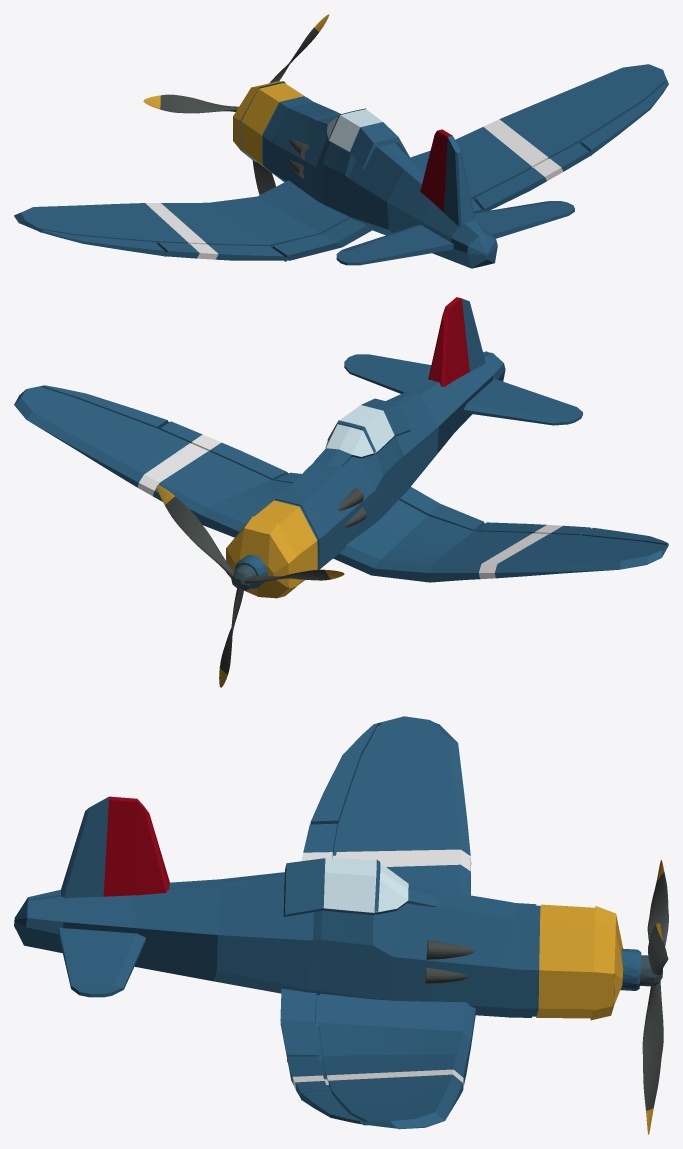
The picture shows the model from 3 angles, top to bottom: view 1: azimuth 30°, elevation 25°; view 2: azimuth 150°, elevation 25°; view 3: azimuth 270°, elevation 25°; orthographic projection. The views are drawn at different scales.
Visible parts, largest first — view 1: Cube.007_0, Cube.004_1; view 2: Cube.007_0, Cube.004_1; view 3: Cube.007_0, Cube.004_1.
Boxes of the visible parts, x1,y1,x2,y2 form: Cube.007_0: (14,64,668,268); Cube.004_1: (143,14,329,194); Cube.007_0: (14,297,668,598); Cube.004_1: (156,485,344,687); Cube.007_0: (14,716,662,1129); Cube.004_1: (642,860,668,1134).
Bounding box in the file's own units: 15.18 × 5.48 × 10.25.
